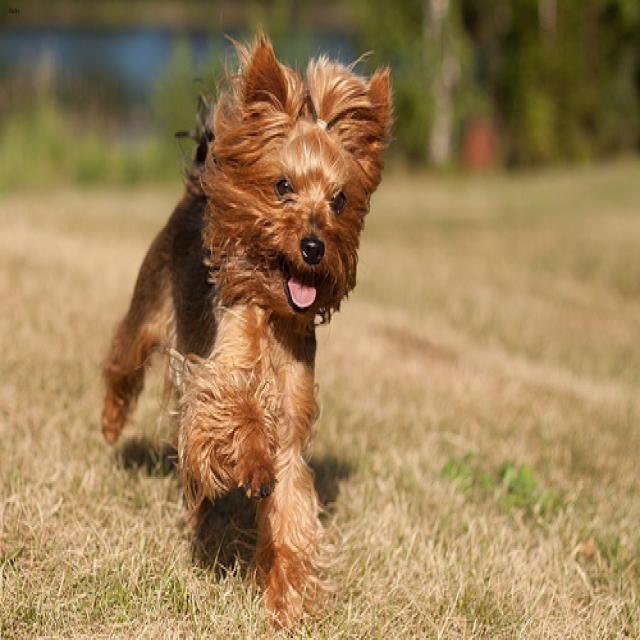dog-yorkshire_terrier: (91, 15, 398, 630)
